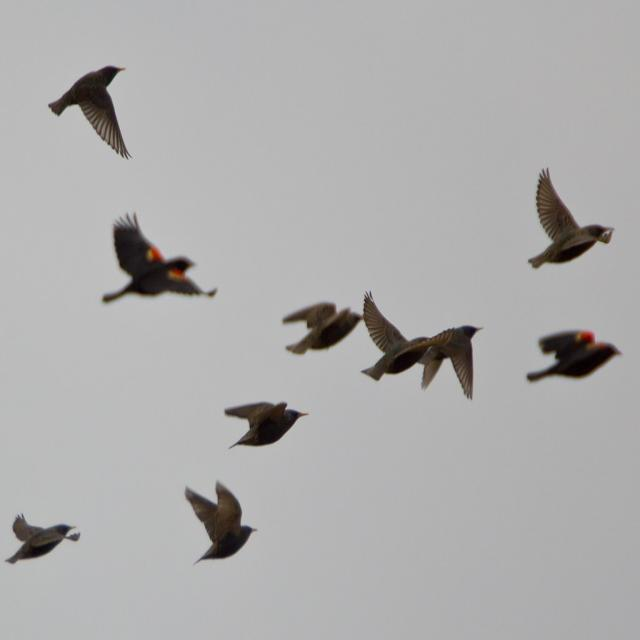bird: (99, 208, 217, 314), (532, 166, 613, 274), (47, 66, 132, 166), (346, 300, 428, 389), (403, 320, 488, 400), (186, 482, 258, 563), (527, 331, 624, 390), (280, 302, 366, 358), (223, 403, 310, 454), (9, 512, 82, 568)
